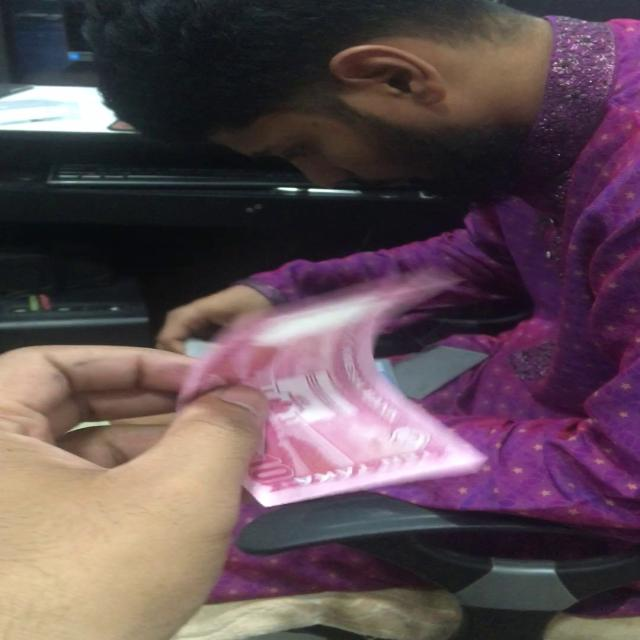Taka: (184, 277, 483, 508)
